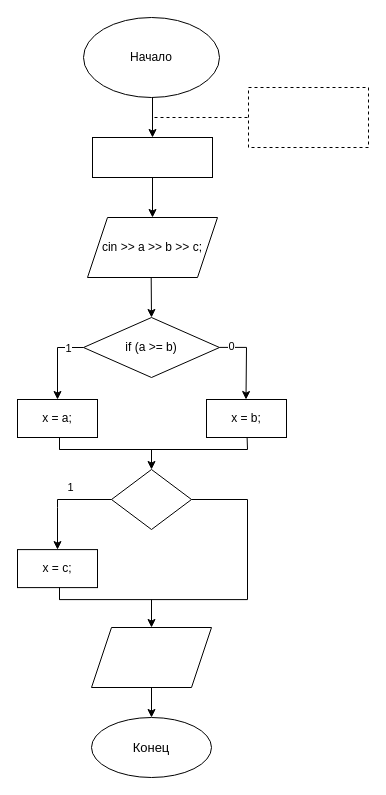
This 386x795 diagram has some shape labels left out. The shapes that lost their labels are listed below. From the top down, each one's box as (x1, y1, x2, y2) in pixels, then its label:
(248, 86, 368, 148): #include <iostream> using namespace std; int main()
(92, 136, 212, 178): float a, b, c, x;
(110, 468, 192, 530): if (c > x)
(90, 626, 212, 688): cout << x;
